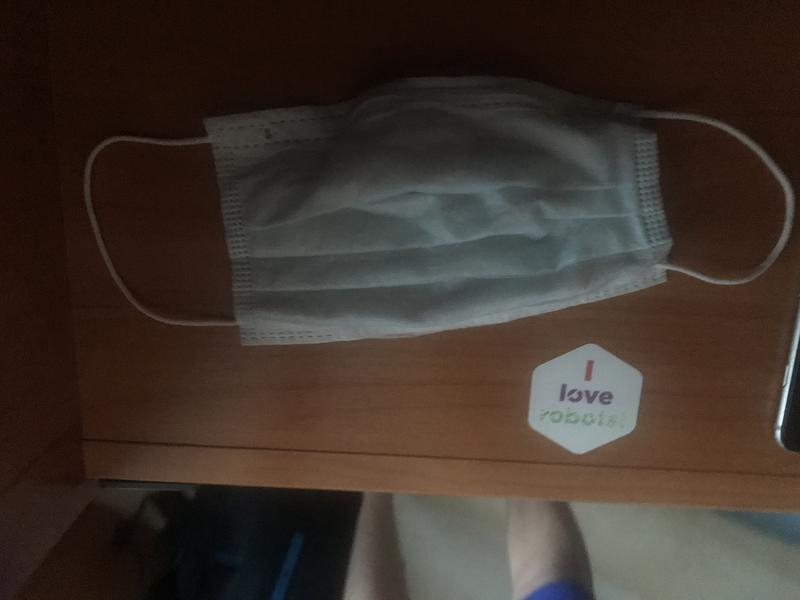medical_mask: (80, 76, 794, 343)
